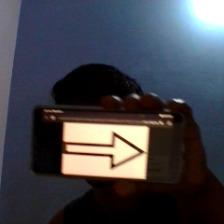right: (61, 131, 145, 169)
